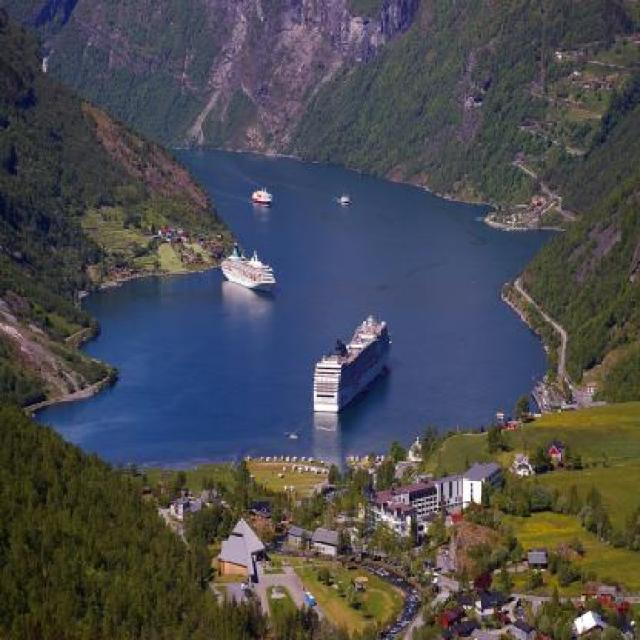ship: (312, 316, 390, 413), (219, 250, 276, 292), (250, 184, 273, 204), (338, 192, 351, 202)
